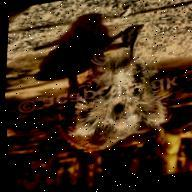boar: (46, 5, 192, 155)
